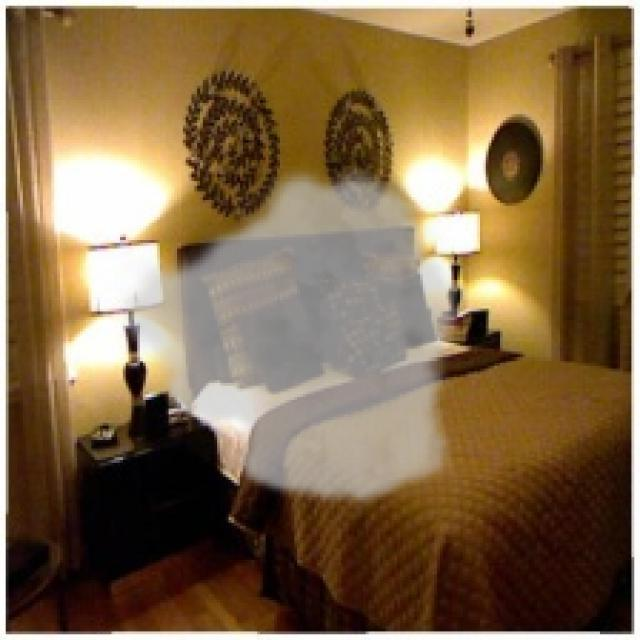Smoke: (114, 160, 463, 509)
